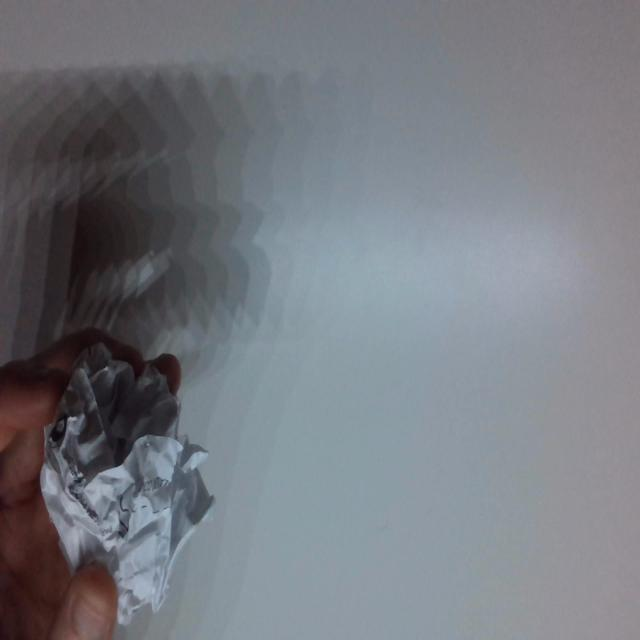Paper: (41, 354, 211, 624)
